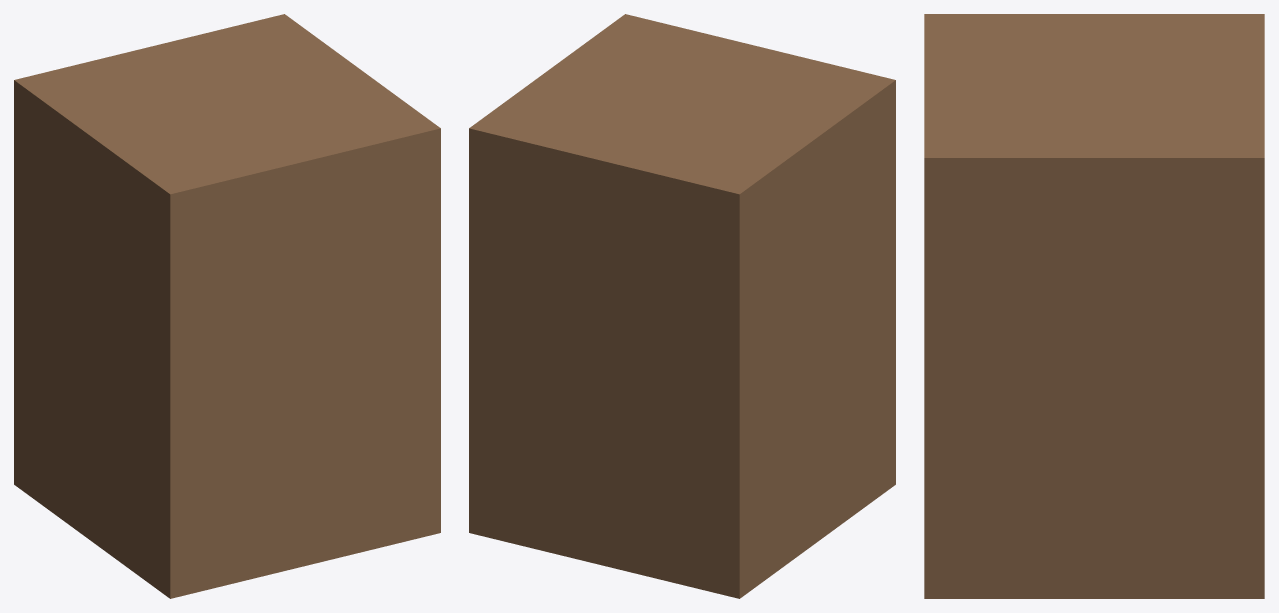
The model's file is tintero.glb.
3 renders of one model, left to right at view 1: azimuth 30°, elevation 25°; view 2: azimuth 150°, elevation 25°; view 3: azimuth 270°, elevation 25°, orthographic. The views are drawn at different scales.
Parts seen in each view (by area): view 1: Tintero; view 2: Tintero; view 3: Tintero.
Boxes of the visible parts, x1=… form: Tintero: x1=14, y1=14, x2=440, y2=598; Tintero: x1=469, y1=14, x2=895, y2=598; Tintero: x1=924, y1=14, x2=1264, y2=598.
Bounding box in the file's own units: 0.14 × 0.2 × 0.14.
